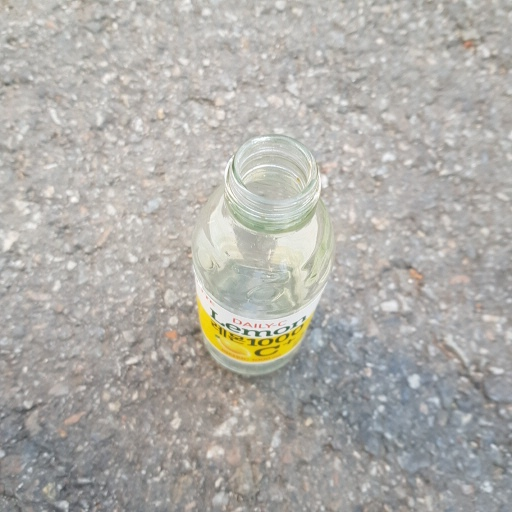Glass_4: (188, 136, 337, 380)
